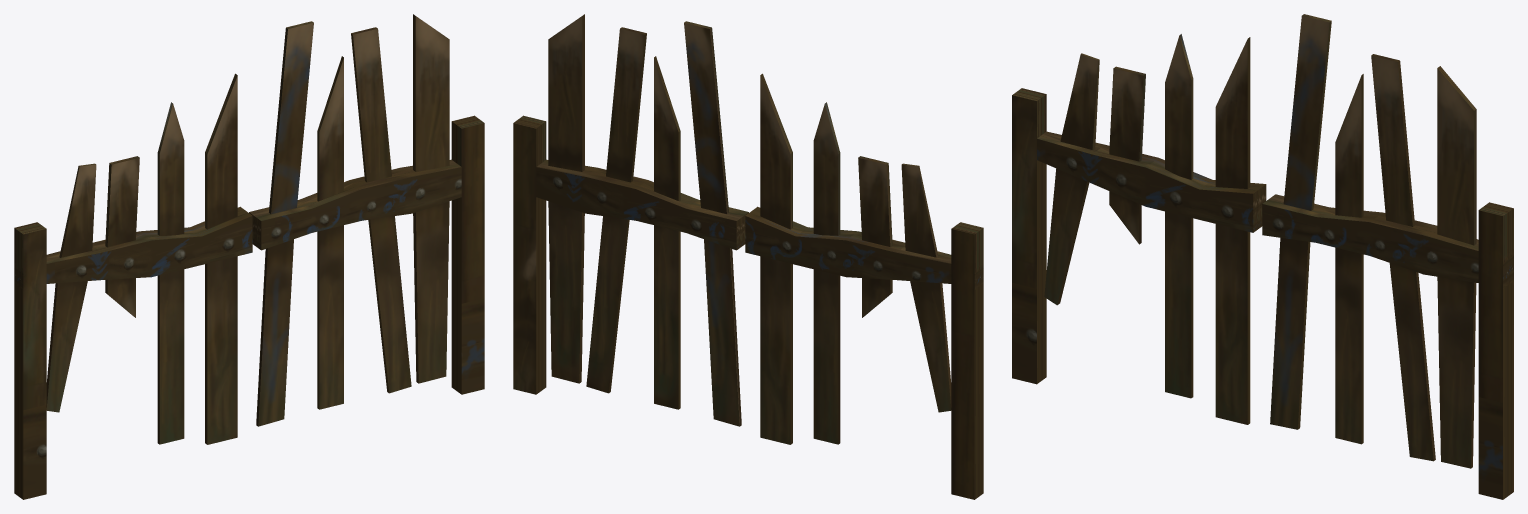
The model's file is gate_FBX.fbx.
3 views of the same model, side by side, from view 1: azimuth 30°, elevation 25°; view 2: azimuth 150°, elevation 25°; view 3: azimuth 330°, elevation 25° (orthographic). The views are drawn at different scales.
Visible parts, largest first — view 1: polySurface3; view 2: polySurface3; view 3: polySurface3.
Part boxes in pixels (<box>): polySurface3: <box>14,14,484,499</box>; polySurface3: <box>513,14,983,499</box>; polySurface3: <box>1012,14,1513,499</box>.
Size of the model in its own units: 229 by 192 by 10.71.
